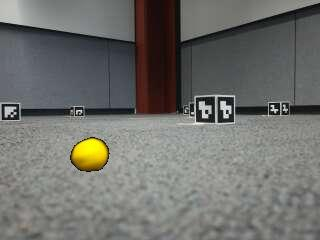lemon: (71, 138, 109, 171)
